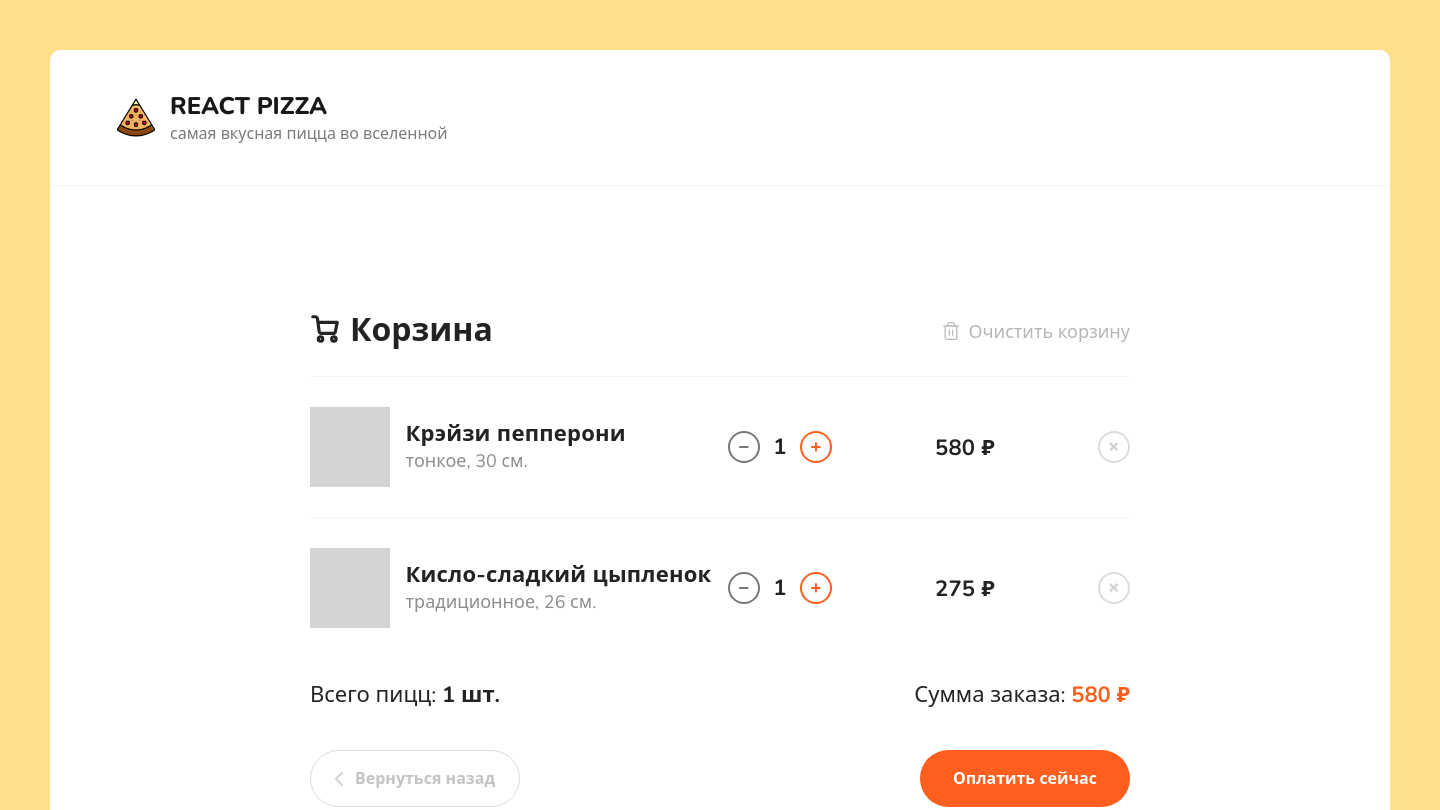
test cart component › delete all pizzas
Click the element with test id "delete-all" at (1036, 331), box [942,318,1130,344]
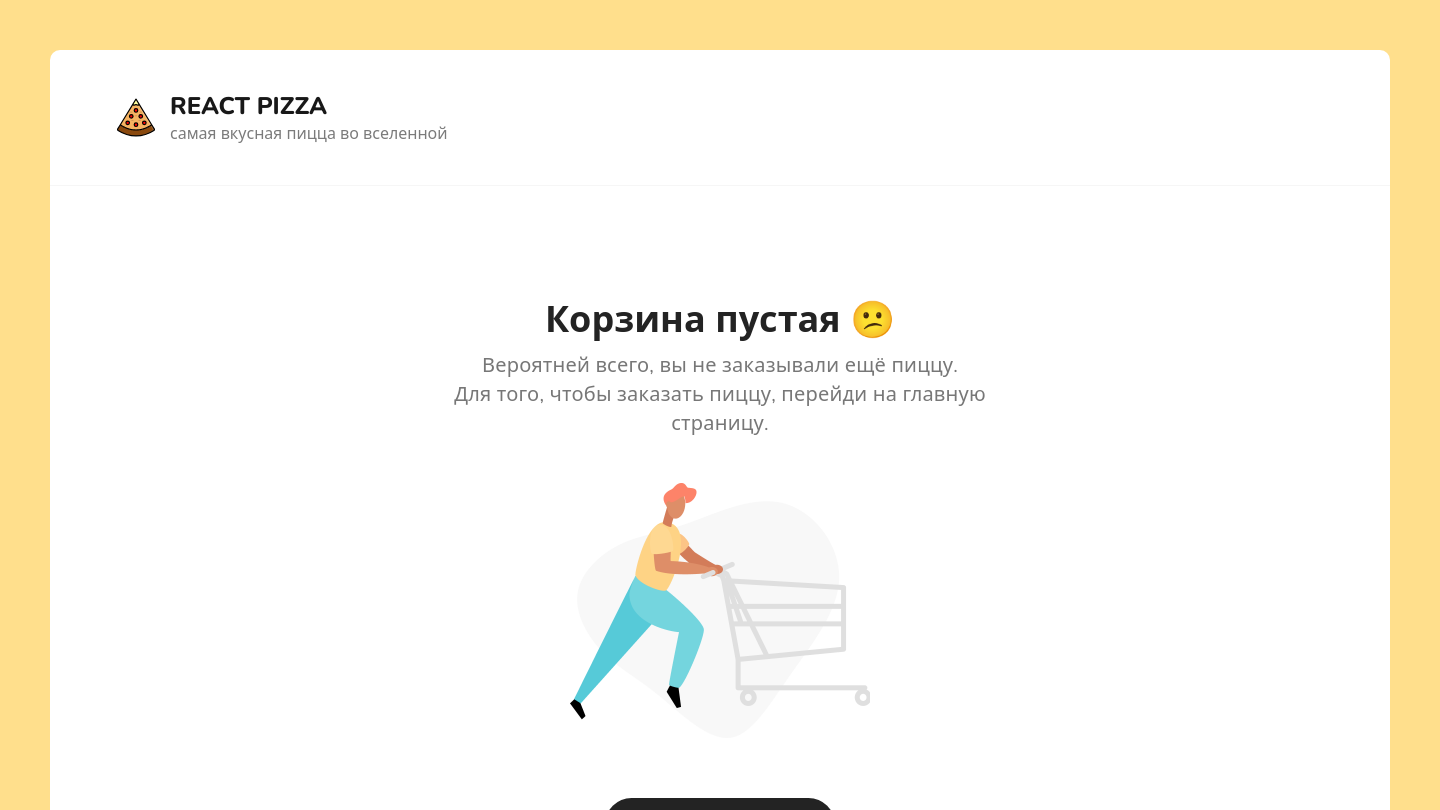
Expected: the heading "Корзина пустая 😕" is shown, [545,296,895,345]
